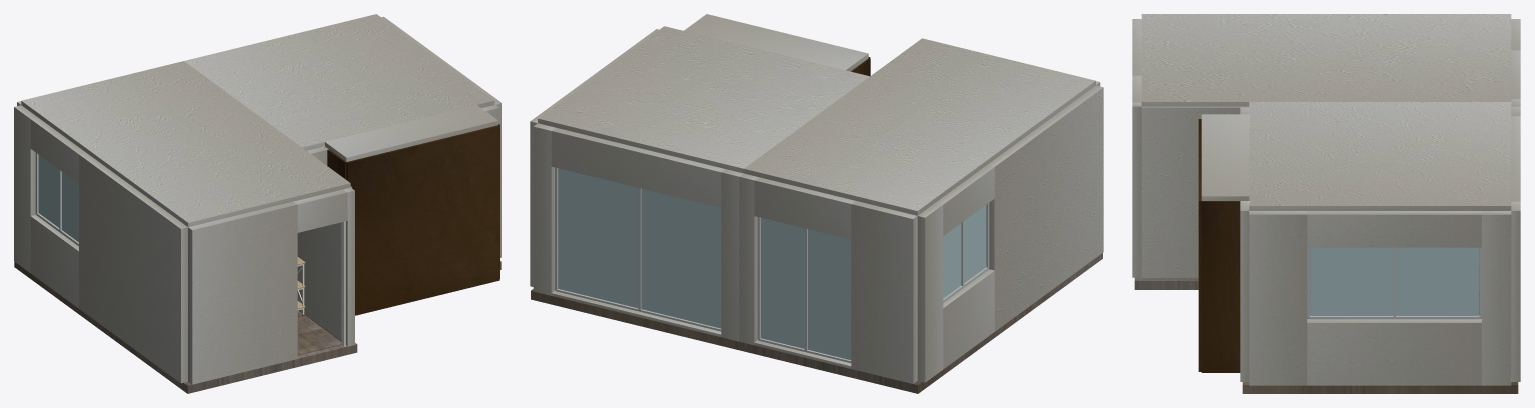
Rendered from room (5).glb.
3 renders of one model, left to right at view 1: azimuth 30°, elevation 25°; view 2: azimuth 150°, elevation 25°; view 3: azimuth 270°, elevation 25°, orthographic. The views are drawn at different scales.
Visible parts, largest first — view 1: Ceiling_Kitchen, Shell_Cutaway_Closet_back, Ceiling_Main, Shell_Cutaway_Kitchen_west_left, Shell_Cutaway_Kitchen_south_right, Shell_Kitchen_corridor_side_extension, Ceiling_Closet, Shell_Cutaway_Kitchen_west_right, Shell_Cutaway_Kitchen_west_below, Floor_underlay_Kitchen, Window_Kitchen_small_obscured_glazing_assumed, Shell_Cutaway_Kitchen_west_above (+4 smaller); view 2: Ceiling_Kitchen, Ceiling_Main, Window_Main_large_obscured_glazing_assumed, Shell_Cutaway_Kitchen_west_left, Shell_Kitchen_north_left, Window_Kitchen_large_obscured_glazing_assumed, Shell_Main_north_above, Shell_Cutaway_Kitchen_west_right, Shell_Kitchen_north_above, Ceiling_Closet, Shell_Main_north_right, Shell_Cutaway_Kitchen_west_below (+12 smaller); view 3: Ceiling_Kitchen, Ceiling_Main, Shell_Main_east_below, Window_Main_small_obscured_glazing_assumed, Shell_Kitchen_corridor_side_extension, Shell_Main_east_left, Closet_sidewall.001, Shell_Main_east_above, Shell_Main_east_right, Ceiling_Closet, Floor_underlay_Main, Shell_Main_north_right (+8 smaller).
Boxes of the visible parts, x1,y1,x2,y2 form: Ceiling_Kitchen: (21, 61, 350, 227); Shell_Cutaway_Closet_back: (346, 125, 499, 315); Ceiling_Main: (184, 14, 494, 150); Shell_Cutaway_Kitchen_west_left: (79, 153, 187, 383); Shell_Cutaway_Kitchen_south_right: (188, 201, 297, 384); Shell_Kitchen_corridor_side_extension: (297, 186, 352, 340); Ceiling_Closet: (325, 105, 498, 161); Shell_Cutaway_Kitchen_west_right: (14, 105, 37, 272); Shell_Cutaway_Kitchen_west_below: (30, 215, 78, 308); Floor_underlay_Kitchen: (14, 262, 357, 393); Window_Kitchen_small_obscured_glazing_assumed: (38, 155, 78, 242); Shell_Cutaway_Kitchen_west_above: (30, 117, 85, 183); Ceiling_Kitchen: (744, 38, 1095, 215); Ceiling_Main: (538, 26, 869, 173); Window_Main_large_obscured_glazing_assumed: (558, 168, 721, 328); Shell_Cutaway_Kitchen_west_left: (987, 85, 1103, 331); Shell_Kitchen_north_left: (851, 201, 917, 383); Window_Kitchen_large_obscured_glazing_assumed: (761, 218, 851, 359); Shell_Main_north_above: (551, 127, 725, 207); Shell_Cutaway_Kitchen_west_right: (917, 203, 943, 382); Shell_Kitchen_north_above: (754, 177, 855, 239); Ceiling_Closet: (684, 14, 868, 71); Shell_Main_north_right: (533, 123, 555, 295); Shell_Cutaway_Kitchen_west_below: (943, 269, 994, 369); Ceiling_Kitchen: (1141, 14, 1511, 106); Ceiling_Main: (1249, 102, 1511, 210); Shell_Main_east_below: (1307, 319, 1481, 385); Window_Main_small_obscured_glazing_assumed: (1310, 247, 1478, 315); Shell_Kitchen_corridor_side_extension: (1141, 106, 1249, 278); Shell_Main_east_left: (1249, 211, 1307, 385); Closet_sidewall.001: (1201, 201, 1240, 372); Shell_Main_east_above: (1307, 211, 1481, 247); Shell_Main_east_right: (1482, 211, 1511, 385); Ceiling_Closet: (1201, 114, 1249, 200); Floor_underlay_Main: (1242, 382, 1518, 393); Shell_Main_north_right: (1511, 201, 1520, 381).
Size of the model in its own units: 6.14 by 2.66 by 5.04.
Materials: 66 (12 with a texture image).
